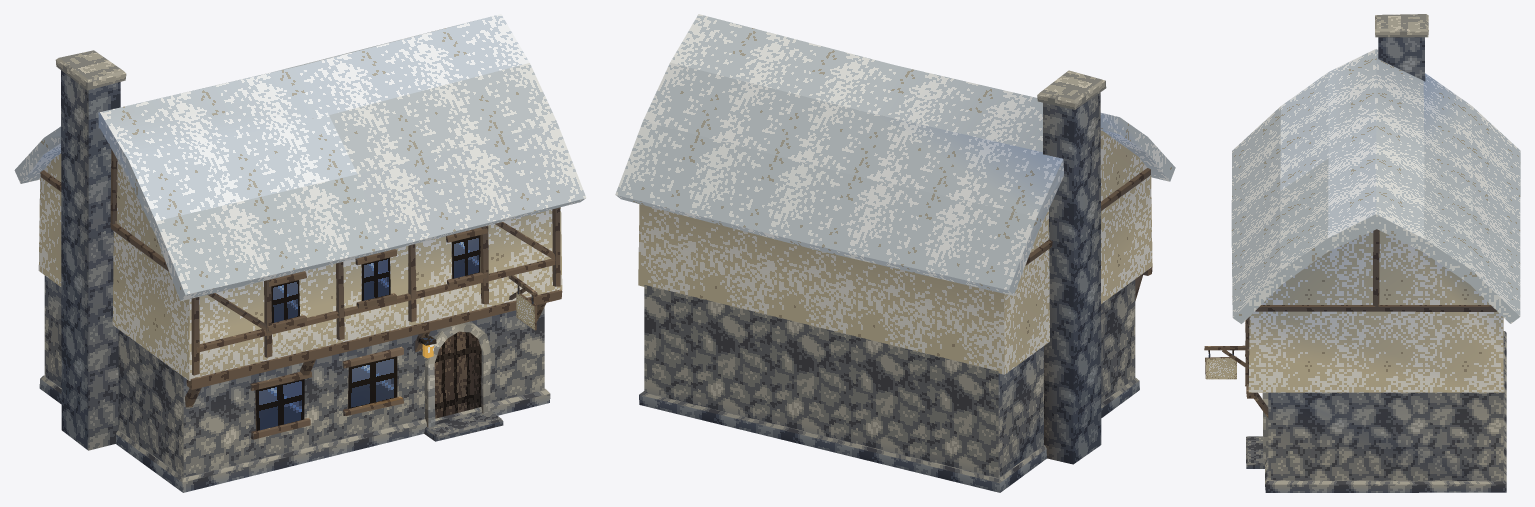
File: vlg.tavern__thatch.glb
3 renders of one model, left to right at view 1: azimuth 30°, elevation 25°; view 2: azimuth 150°, elevation 25°; view 3: azimuth 270°, elevation 25°, orthographic. The views are drawn at different scales.
Parts seen in each view (by area): view 1: kit_roof, kit_walls, kit_stonework, kit_fittings, kit_frame; view 2: kit_walls, kit_roof, kit_stonework, kit_frame; view 3: kit_roof, kit_walls, kit_stonework, kit_frame, kit_fittings.
Boxes of the visible parts, x1,y1,x2,y2 form: kit_roof: (14,14,586,301); kit_walls: (38,153,562,477); kit_stonework: (39,50,550,492); kit_fittings: (250,227,537,441); kit_frame: (40,149,562,407); kit_walls: (638,130,1152,477); kit_roof: (615,14,1175,295); kit_stonework: (639,70,1139,492); kit_frame: (1025,168,1152,300); kit_roof: (1231,49,1520,323); kit_walls: (1248,231,1503,481); kit_stonework: (1265,14,1506,492); kit_frame: (1245,229,1496,417); kit_fittings: (1204,320,1268,468).
Size of the model in its own units: 10.35 by 8.87 by 8.07.
11 materials, 11 textured.
